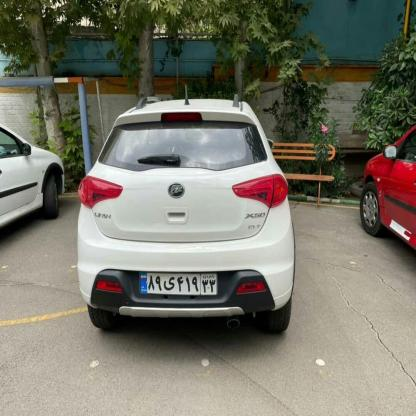Car: (78, 96, 296, 332), (0, 104, 69, 248), (356, 119, 416, 267)
